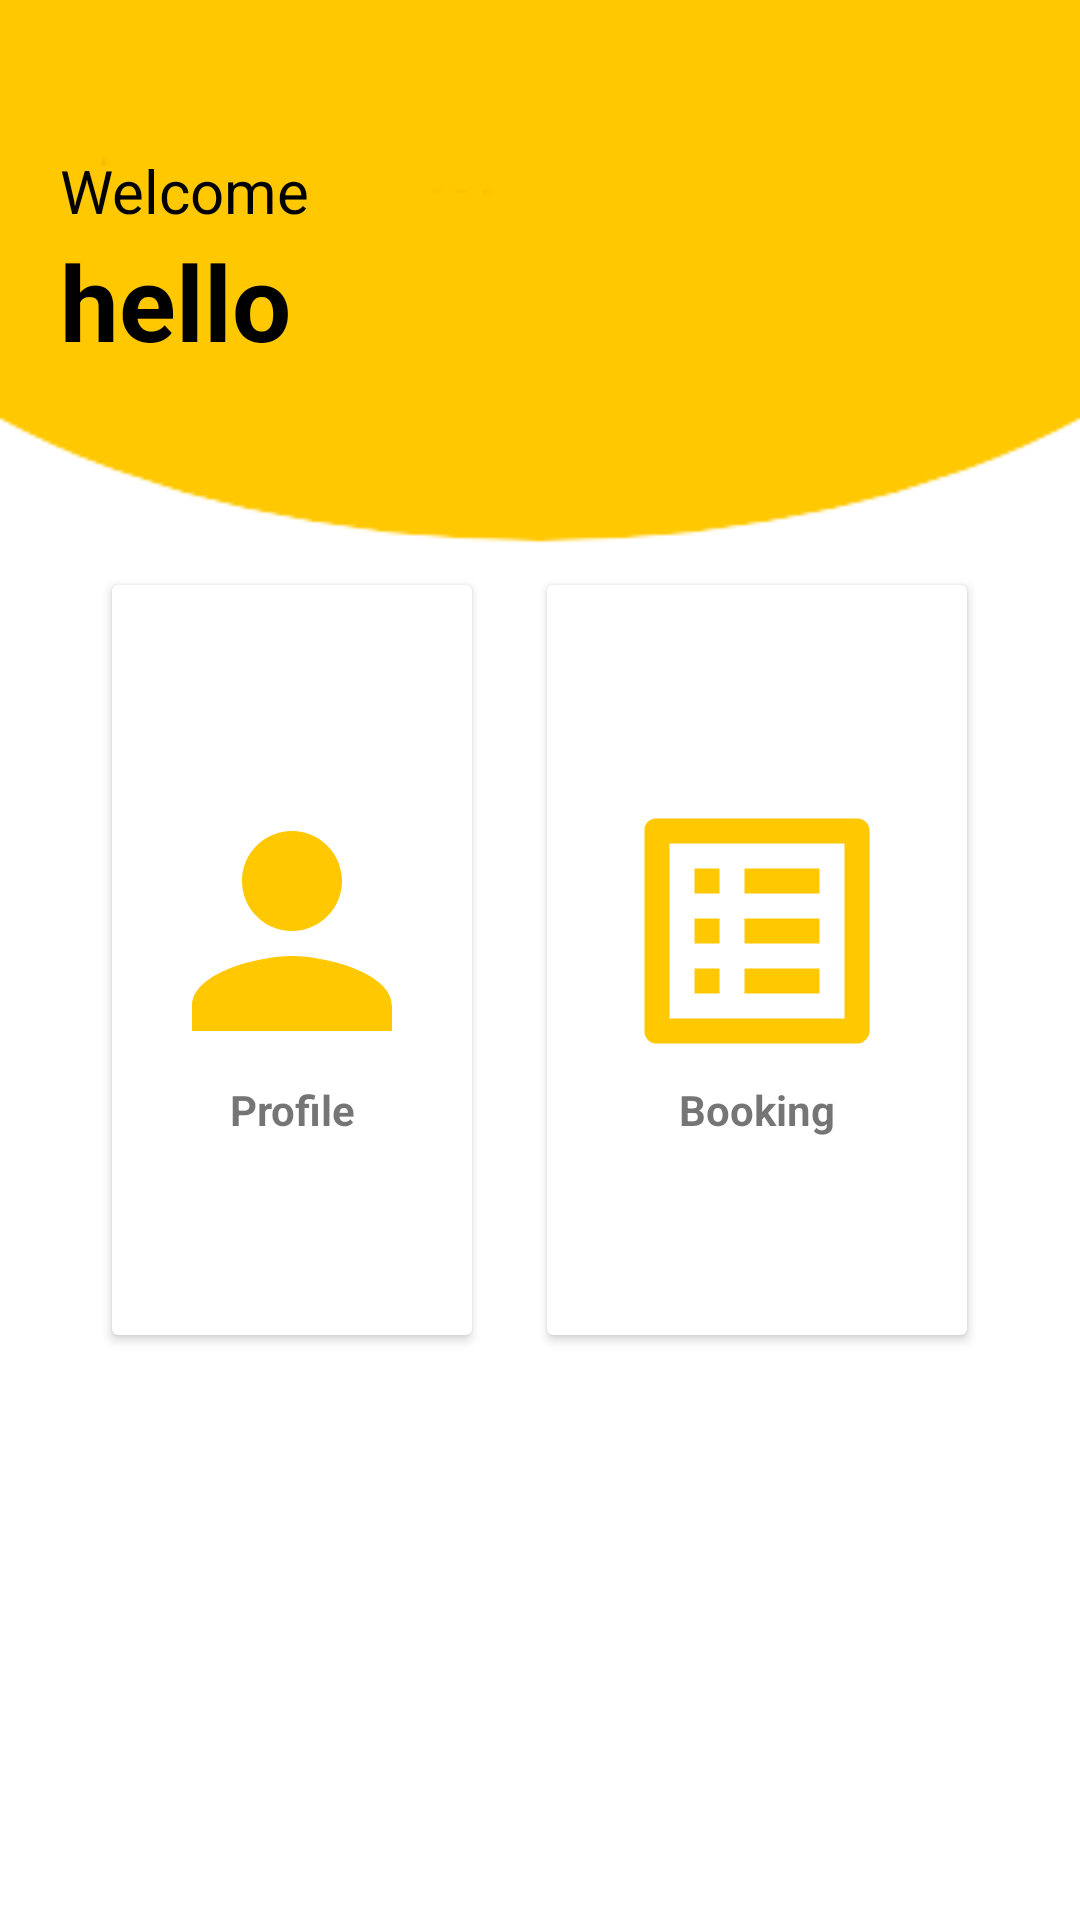

Icon click points for this 1080px x 1920px phone screenshot, format [x,y]:
list: [757,931]
person: [292,931]
